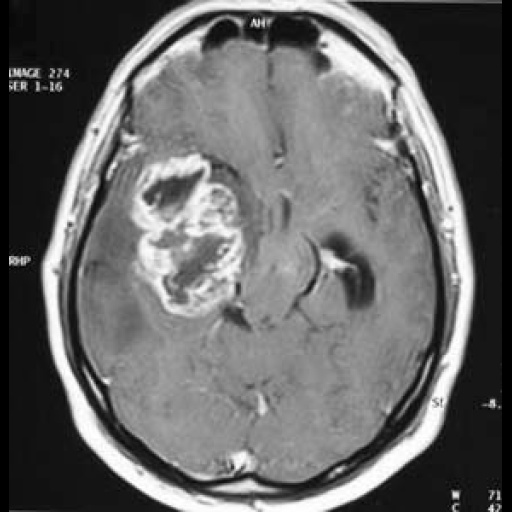tumor: (129, 153, 248, 321)
